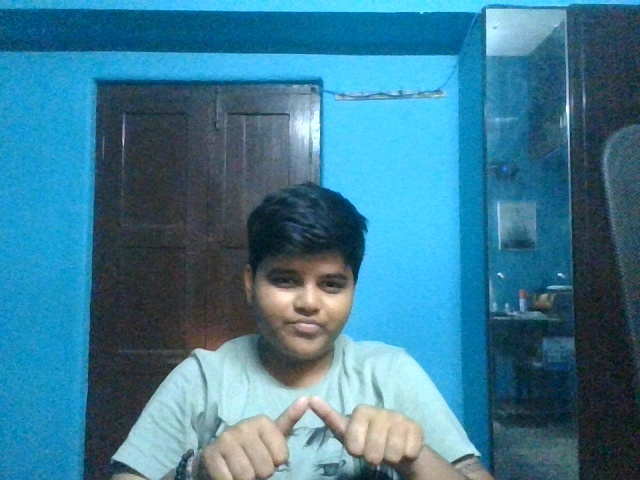A: (192, 389, 430, 480)
